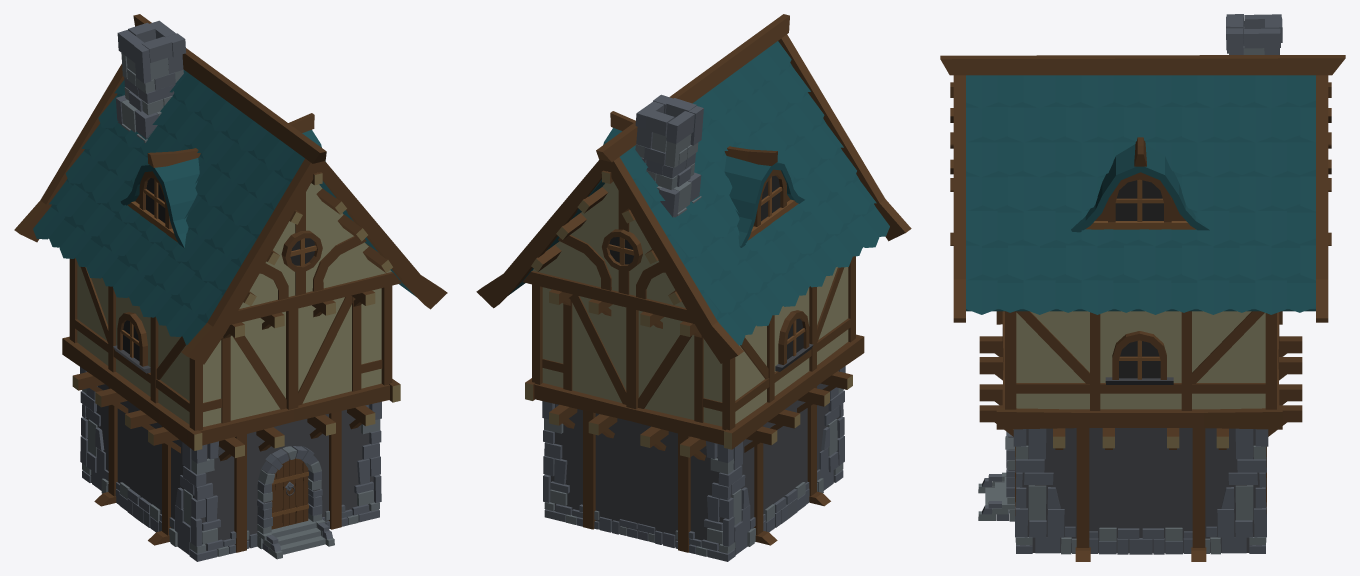
Rendered from village_house_b.glb.
The picture shows the model from 3 angles, left to right: view 1: azimuth 30°, elevation 25°; view 2: azimuth 150°, elevation 25°; view 3: azimuth 270°, elevation 25°; orthographic projection. The views are drawn at different scales.
Parts seen in each view (by area): view 1: merged; view 2: merged; view 3: merged.
Boxes of the visible parts, x1,y1,x2,y2 form: merged: (14, 14, 447, 561); merged: (476, 14, 911, 561); merged: (940, 14, 1345, 561).
Bounding box in the file's own units: 2.89 × 4.58 × 3.59.
